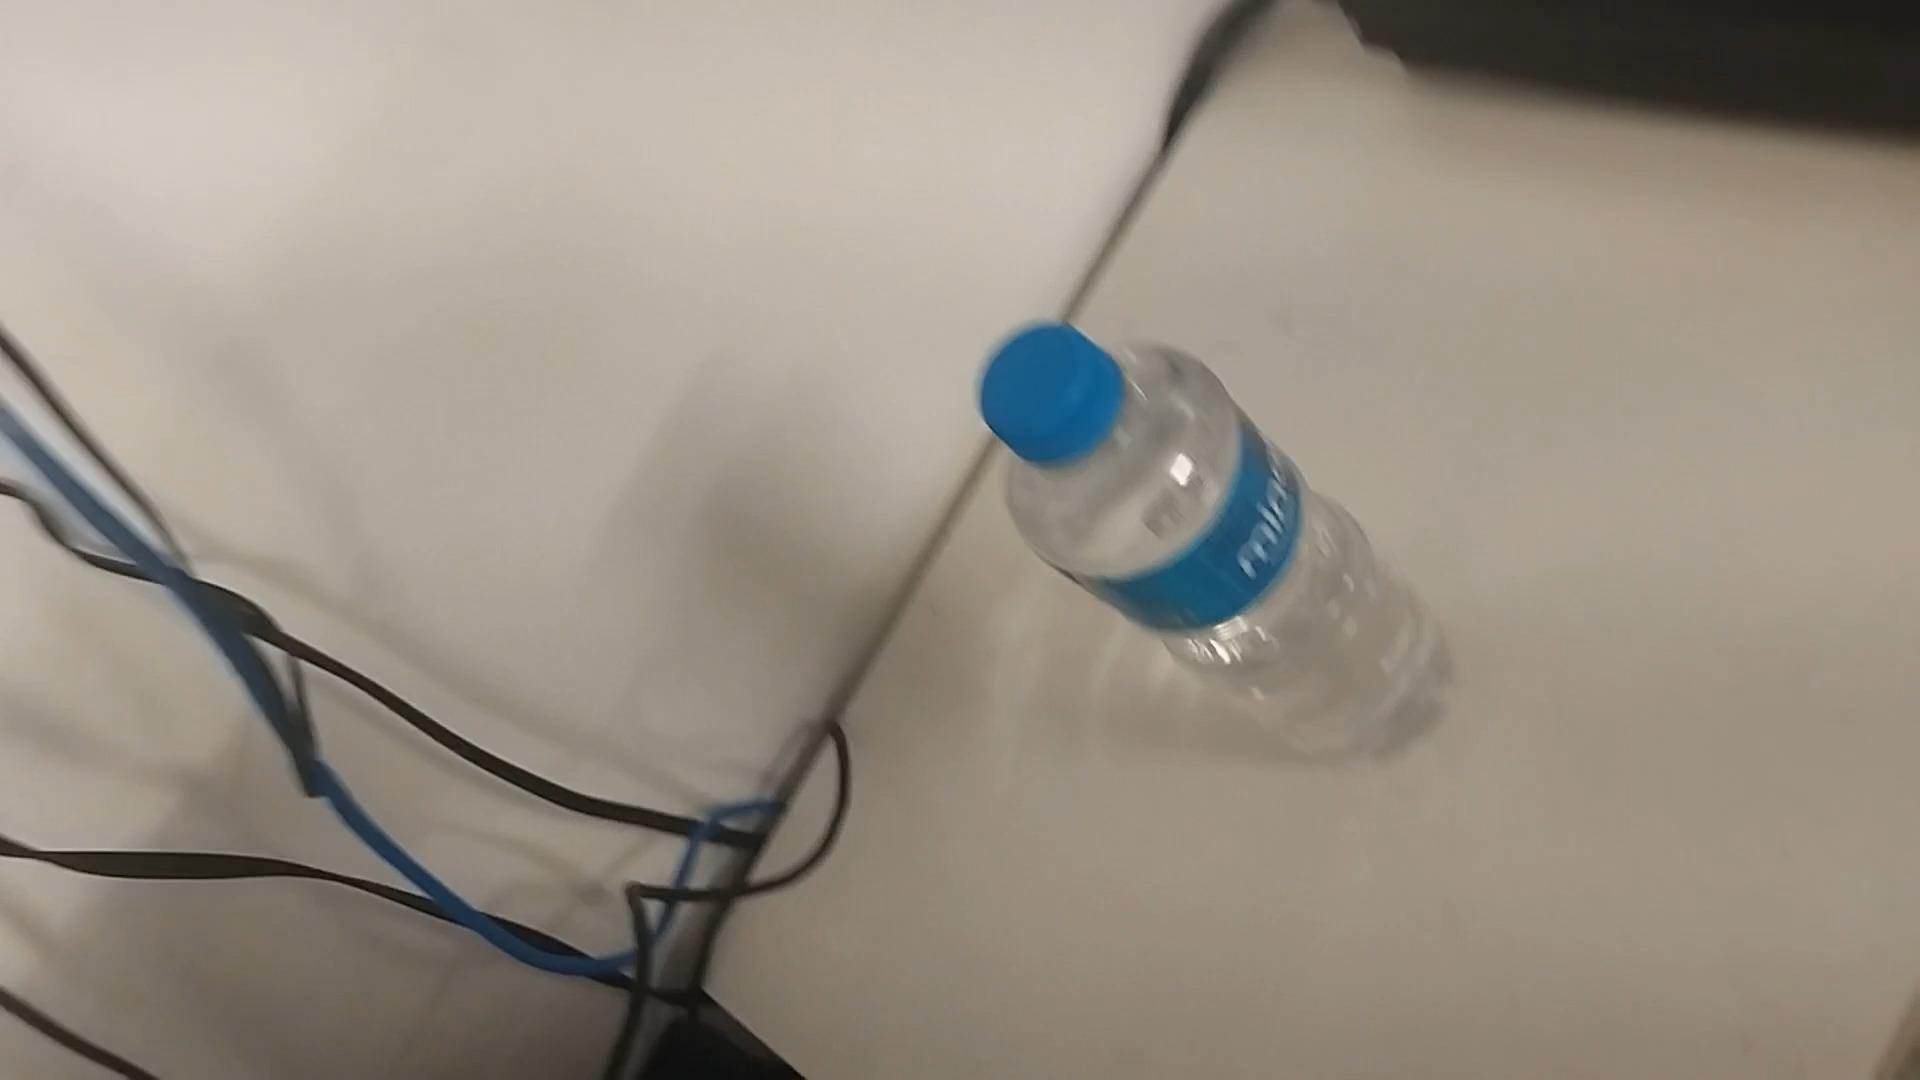agua: (988, 319, 1439, 758)
